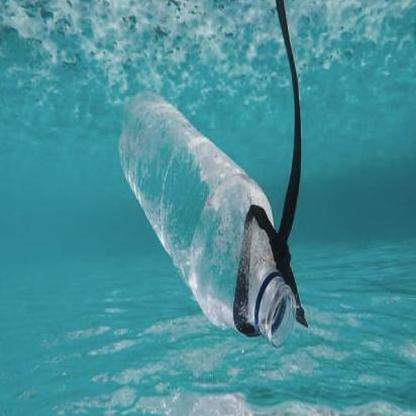plastic bottle: (118, 93, 296, 349)
